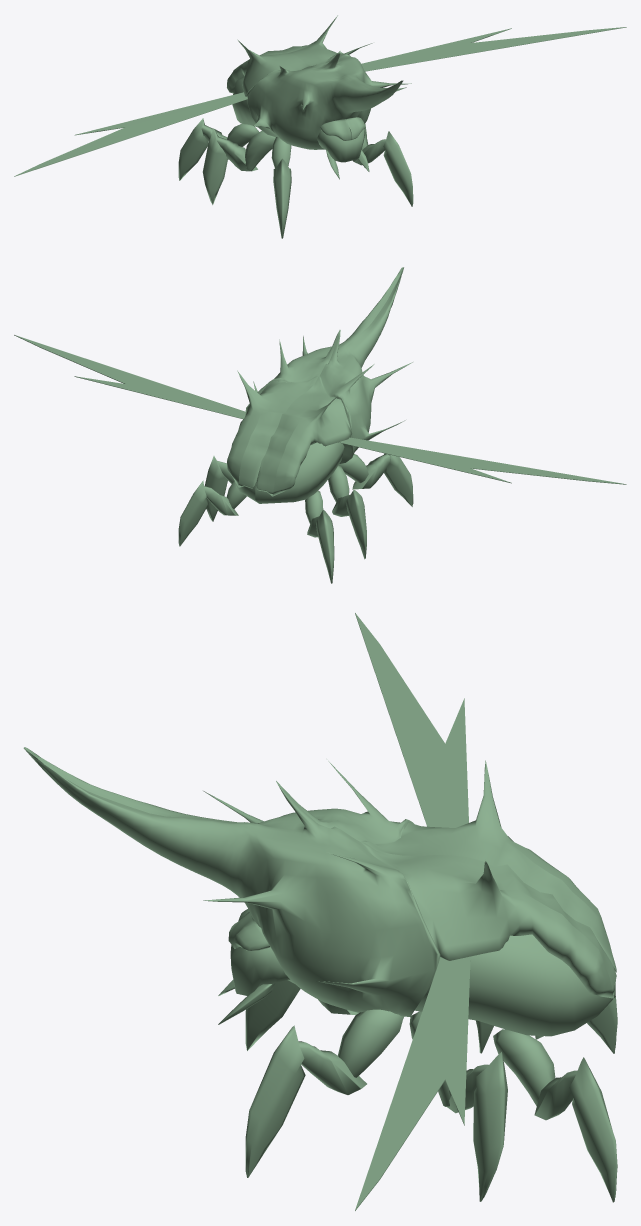
File: arros (1).fbx
3 renders of one model, top to bottom at view 1: azimuth 30°, elevation 25°; view 2: azimuth 150°, elevation 25°; view 3: azimuth 270°, elevation 25°, orthographic. The views are drawn at different scales.
Parts seen in each view (by area): view 1: Bug_base1_remember_to_save_copies_of_bug_base_legs_back_grou; view 2: Bug_base1_remember_to_save_copies_of_bug_base_legs_back_grou; view 3: Bug_base1_remember_to_save_copies_of_bug_base_legs_back_grou.
Part boxes in pixels (x1=…): Bug_base1_remember_to_save_copies_of_bug_base_legs_back_grou: x1=14, y1=15, x2=626, y2=238; Bug_base1_remember_to_save_copies_of_bug_base_legs_back_grou: x1=14, y1=267, x2=626, y2=583; Bug_base1_remember_to_save_copies_of_bug_base_legs_back_grou: x1=23, y1=613, x2=617, y2=1210.
Size of the model in its own units: 1007 by 298 by 423.
